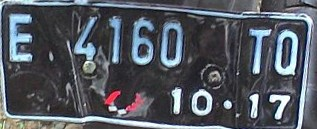plate: (1, 1, 307, 129)
